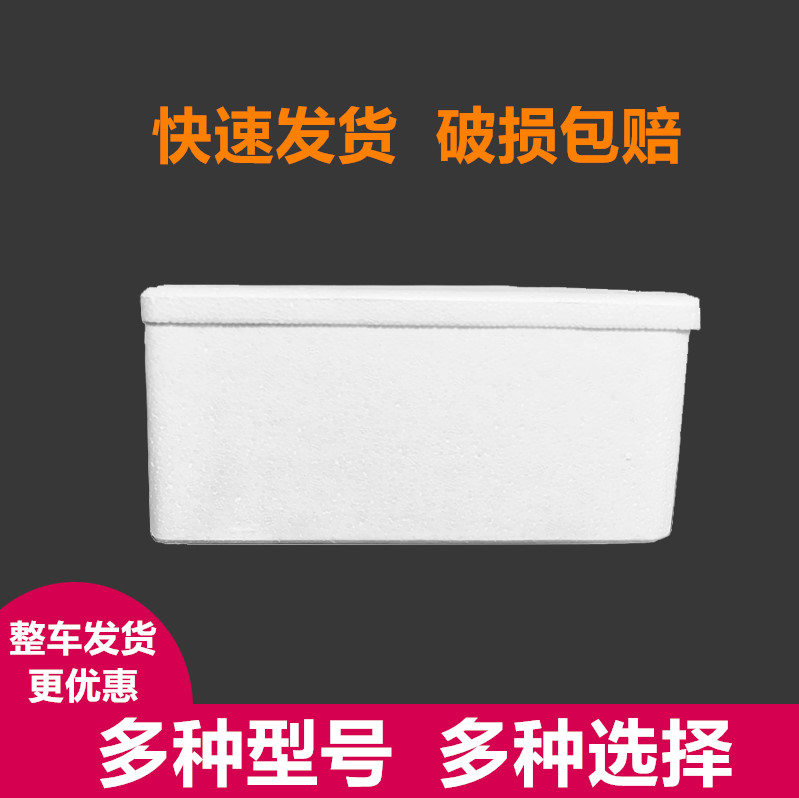Boxes: (141, 286, 700, 542)
